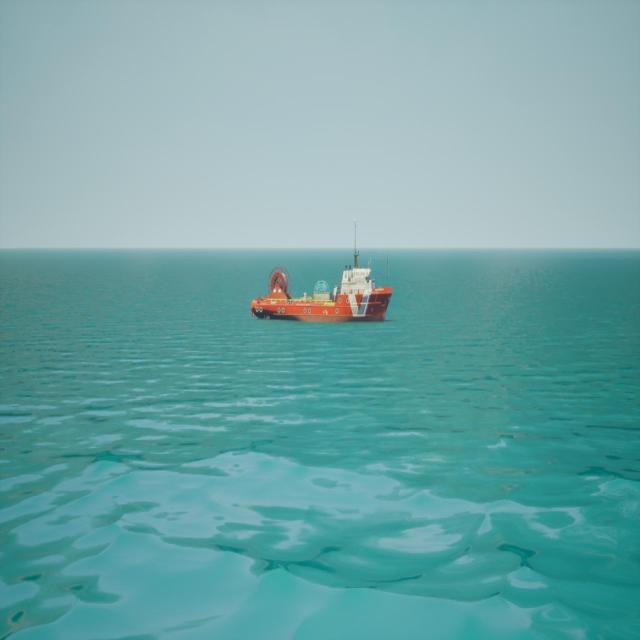tug boat: (253, 223, 394, 325)
